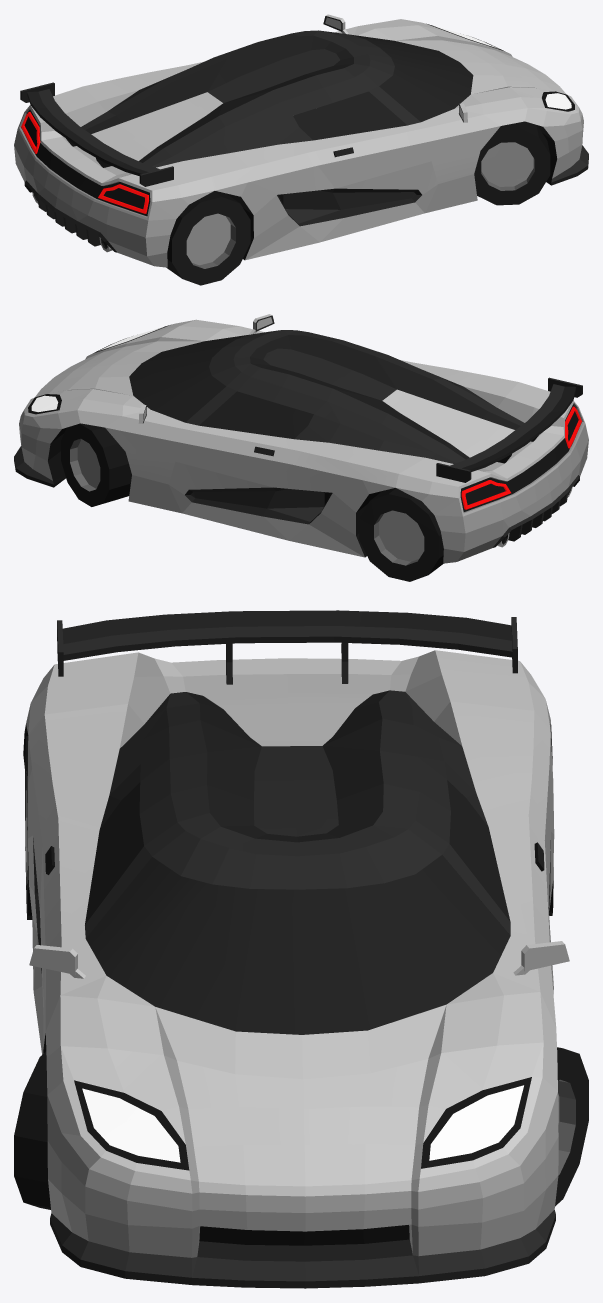
The model's file is Car_045.glb.
3 views of the same model, one above another, from view 1: azimuth 30°, elevation 25°; view 2: azimuth 150°, elevation 25°; view 3: azimuth 270°, elevation 25° (orthographic). The views are drawn at different scales.
Visible parts, largest first — view 1: Car_045, wheel_3_Car_045_Wheel_2R, wheel_1_Car_045_Wheel_1R; view 2: Car_045, wheel_2_Car_045_Wheel_2L, wheel_0_Car_045_Wheel_1L; view 3: Car_045, wheel_1_Car_045_Wheel_1R, wheel_0_Car_045_Wheel_1L.
Boxes of the visible parts, box(x1,y1,x2,y2) form: Car_045: box(14, 14, 588, 267); wheel_3_Car_045_Wheel_2R: box(166, 191, 250, 285); wheel_1_Car_045_Wheel_1R: box(474, 121, 550, 205); Car_045: box(14, 314, 588, 563); wheel_2_Car_045_Wheel_2L: box(359, 488, 443, 581); wheel_0_Car_045_Wheel_1L: box(61, 423, 131, 506); Car_045: box(23, 610, 569, 1288); wheel_1_Car_045_Wheel_1R: box(14, 1051, 50, 1209); wheel_0_Car_045_Wheel_1L: box(555, 1047, 588, 1206).
Size of the model in its own units: 5.2 by 1.35 by 2.62.
Materials: 3 (3 with a texture image).
